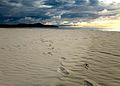human_footprint: (58, 66, 68, 76), (46, 49, 54, 60), (47, 38, 54, 48), (86, 76, 92, 86), (84, 64, 90, 70)
